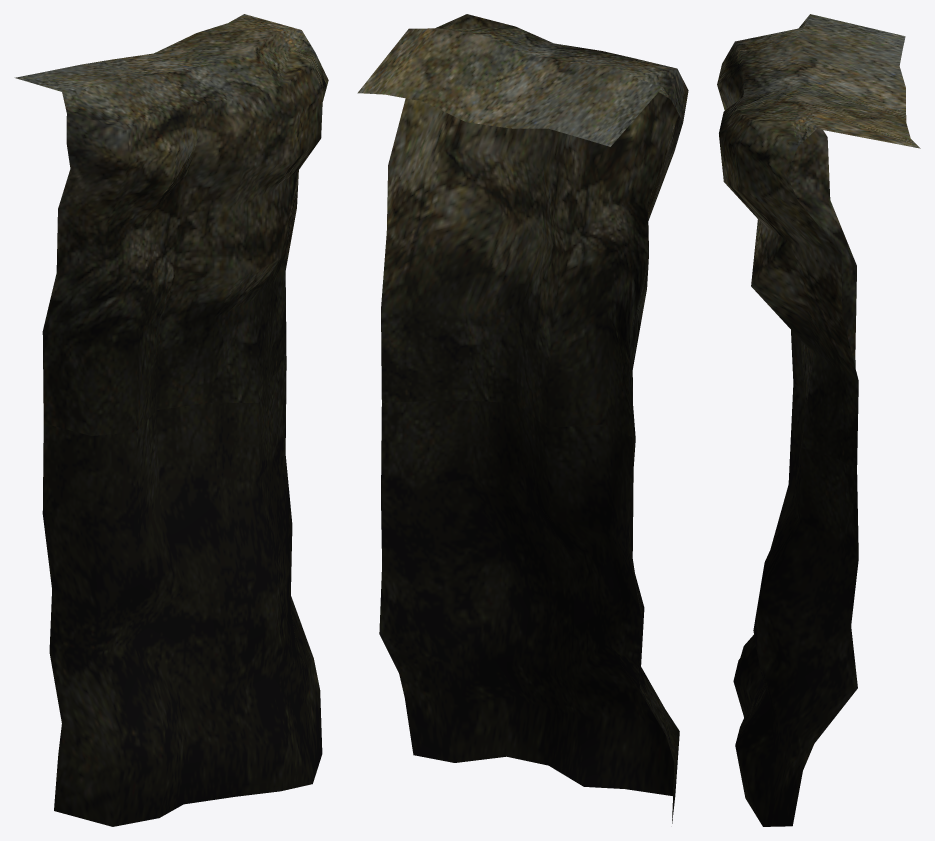
3 views of the same model, side by side, from view 1: azimuth 30°, elevation 25°; view 2: azimuth 150°, elevation 25°; view 3: azimuth 270°, elevation 25° (orthographic). The views are drawn at different scales.
Parts seen in each view (by area): view 1: SMDImport; view 2: SMDImport; view 3: SMDImport.
Part boxes in pixels (x1,y1,x2,y2): SMDImport: (14, 14, 328, 826); SMDImport: (357, 14, 688, 823); SMDImport: (717, 14, 920, 826).
Bounding box in the file's own units: 484 × 1294 × 336.
